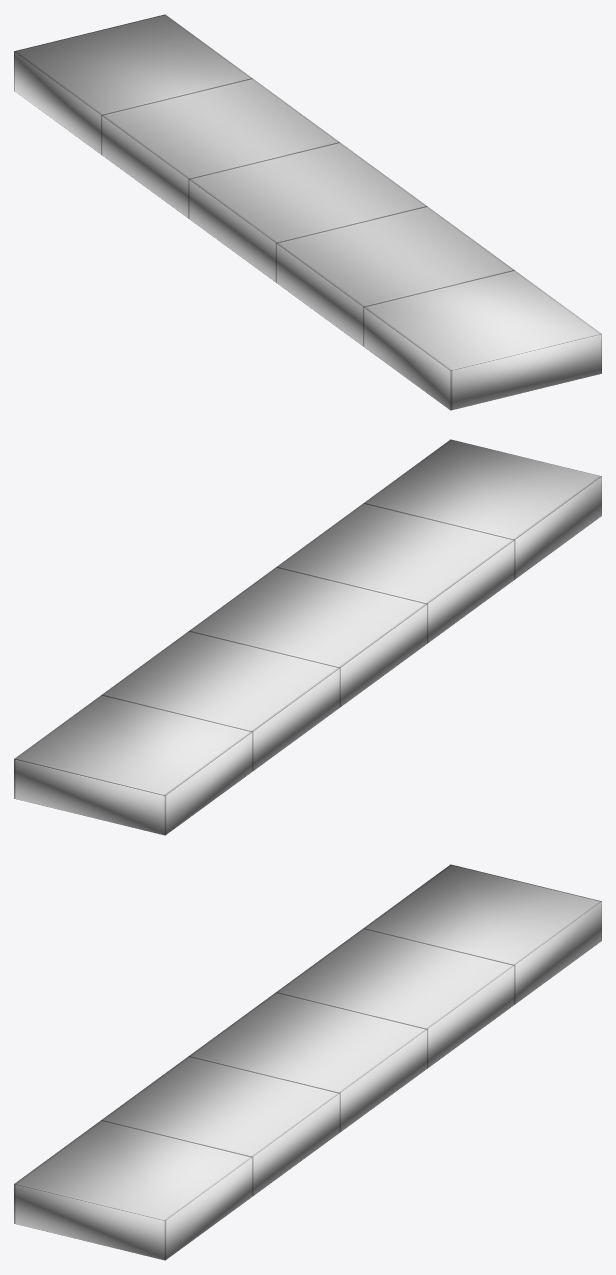
The model's file is Floor-05.fbx.
The picture shows the model from 3 angles, top to bottom: view 1: azimuth 30°, elevation 25°; view 2: azimuth 150°, elevation 25°; view 3: azimuth 330°, elevation 25°; orthographic projection.
Parts seen in each view (by area): view 1: Floor-05; view 2: Floor-05; view 3: Floor-05.
Boxes of the visible parts, box(x1,y1,x2,y2) form: Floor-05: box(14, 14, 601, 410); Floor-05: box(14, 439, 601, 835); Floor-05: box(14, 864, 601, 1260).
Size of the model in its own units: 1 by 0.25 by 5.
